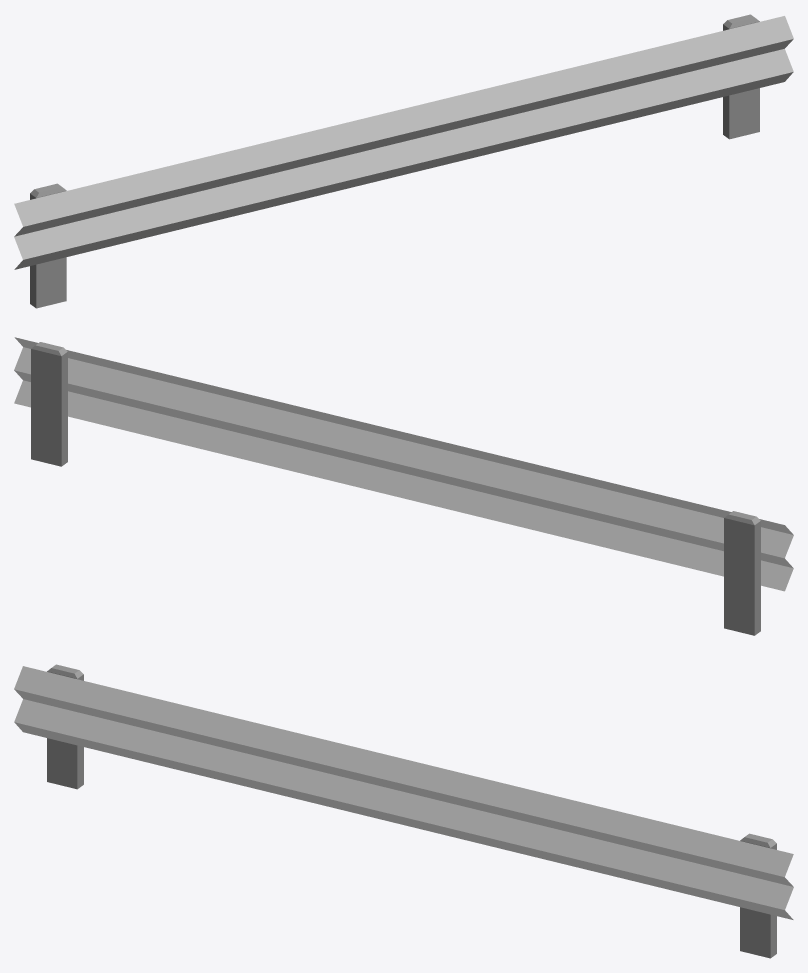
Rendered from Guard_rail_road_015.fbx.
3 views of the same model, one above another, from view 1: azimuth 30°, elevation 25°; view 2: azimuth 150°, elevation 25°; view 3: azimuth 330°, elevation 25° (orthographic).
Visible parts, largest first — view 1: Guard rail road.015; view 2: Guard rail road.015; view 3: Guard rail road.015.
Part boxes in pixels (<box>): Guard rail road.015: <box>14,14,793,308</box>; Guard rail road.015: <box>14,337,793,635</box>; Guard rail road.015: <box>14,664,793,958</box>.
Bounding box in the file's own units: 995 × 141 × 36.42.
